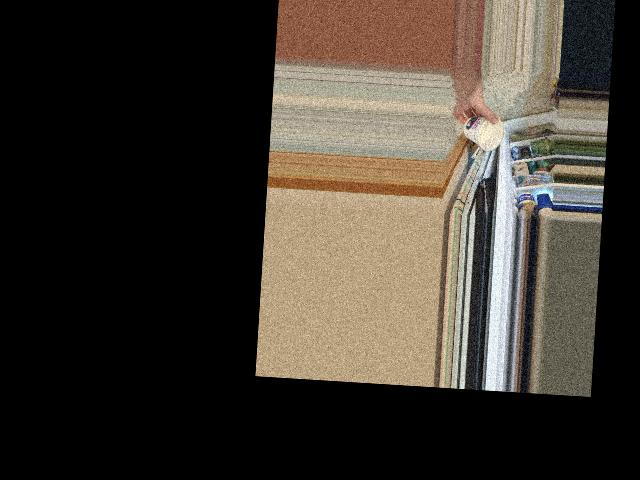cotage: (462, 114, 503, 148)
